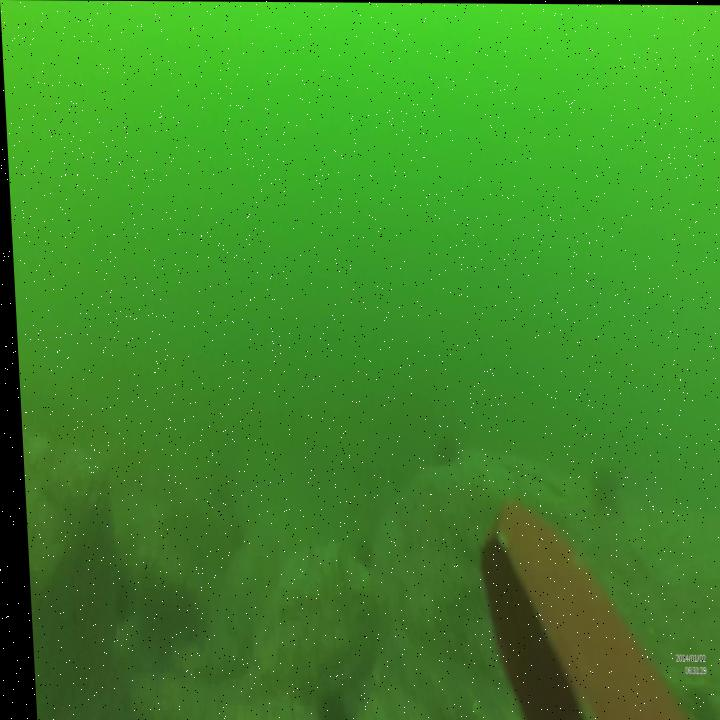echinus: (584, 463, 617, 521), (307, 689, 346, 720), (430, 438, 457, 481)
